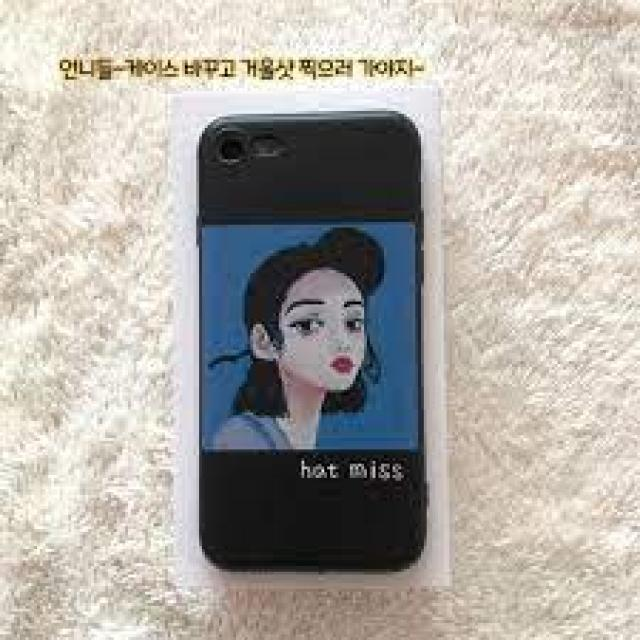Phone: (193, 107, 429, 576)
